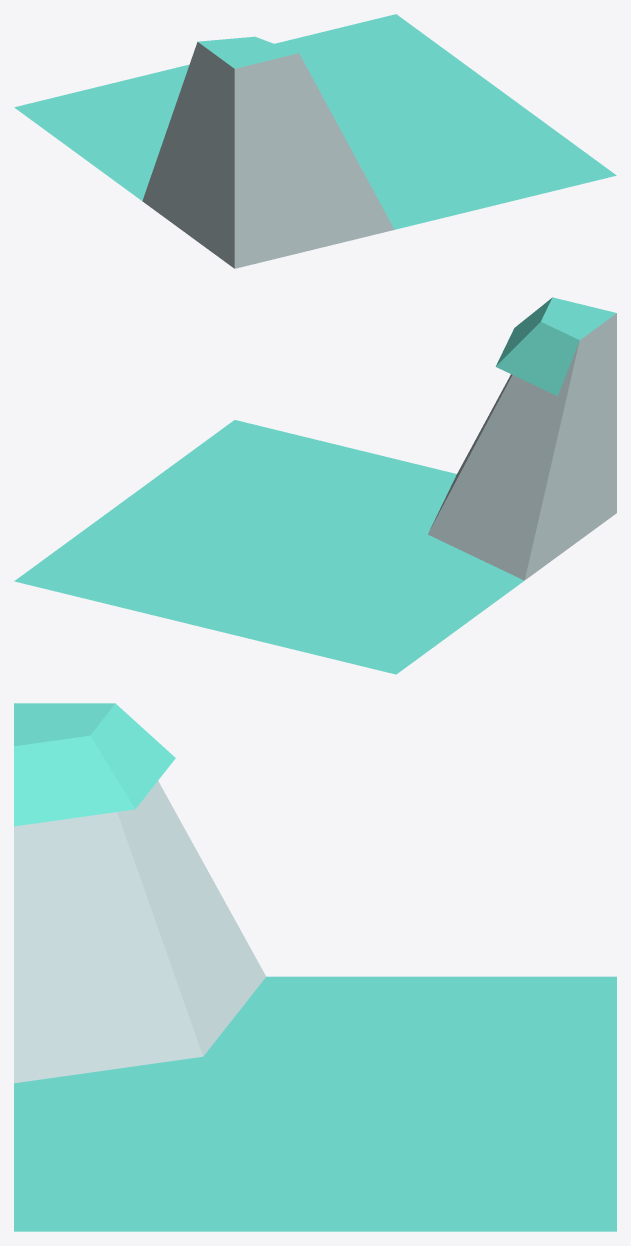
File: cliff_halfCorner_stone_grass.glb
The picture shows the model from 3 angles, top to bottom: view 1: azimuth 30°, elevation 25°; view 2: azimuth 150°, elevation 25°; view 3: azimuth 270°, elevation 25°; orthographic projection. The views are drawn at different scales.
Visible parts, largest first — view 1: cliff_halfCorner_stone_grass; view 2: cliff_halfCorner_stone_grass; view 3: cliff_halfCorner_stone_grass.
Boxes of the visible parts, x1,y1,x2,y2 form: cliff_halfCorner_stone_grass: [14, 14, 616, 268]; cliff_halfCorner_stone_grass: [14, 297, 616, 674]; cliff_halfCorner_stone_grass: [14, 703, 616, 1231].
Size of the model in its own units: 1 by 0.5 by 1.
